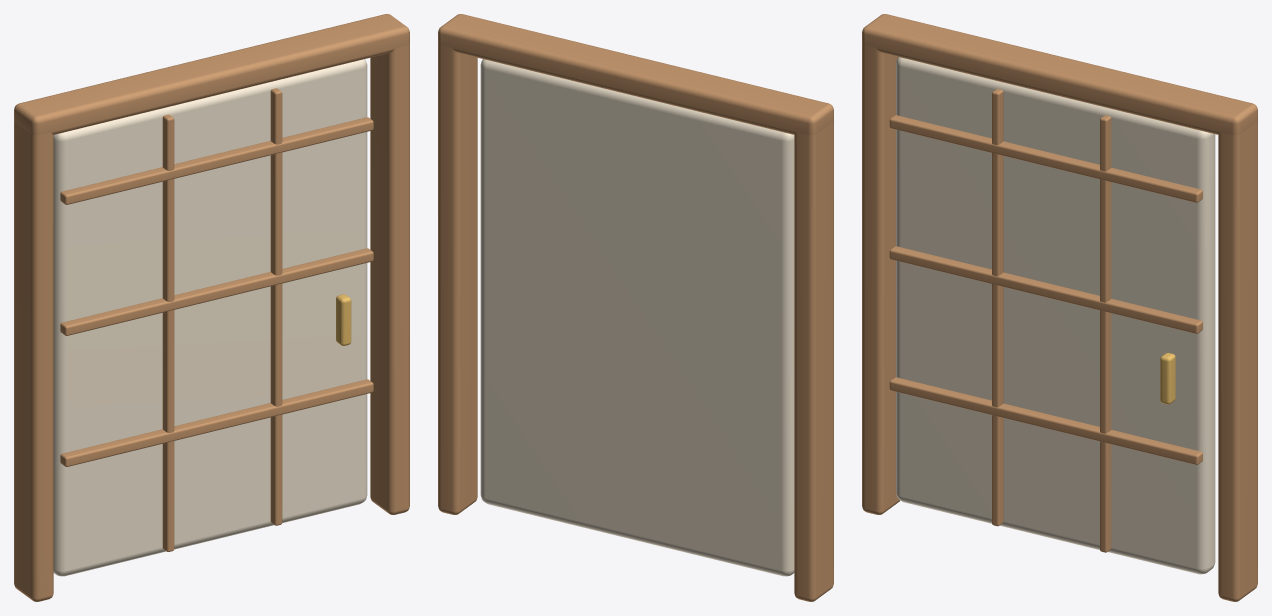
File: japaneseSlidingDoorAni.glb
3 renders of one model, left to right at view 1: azimuth 30°, elevation 25°; view 2: azimuth 150°, elevation 25°; view 3: azimuth 330°, elevation 25°, orthographic.
Parts seen in each view (by area): view 1: Door leaf, Door jamb, Door jamb.001, Door header, Door lattice.004, Door lattice.003, Door lattice.002, Door lattice, Door lattice.001, Door handle; view 2: Door leaf, Door jamb, Door jamb.001, Door header; view 3: Door leaf, Door jamb.001, Door jamb, Door header, Door lattice.004, Door lattice.003, Door lattice.001, Door lattice, Door lattice.002, Door handle.
Boxes of the visible parts, x1,y1,x2,y2 form: Door leaf: (53,59,367,576); Door jamb: (14,121,53,601); Door jamb.001: (370,43,409,514); Door header: (14,14,409,135); Door lattice.004: (270,88,282,525); Door lattice.003: (162,114,174,551); Door lattice.002: (60,117,373,204); Door lattice: (60,379,373,466); Door lattice.001: (60,248,373,335); Door handle: (336,294,351,345); Door leaf: (480,59,794,576); Door jamb: (794,121,833,601); Door jamb.001: (438,43,477,514); Door header: (438,14,833,135); Door leaf: (896,57,1215,574); Door jamb.001: (1218,121,1257,601); Door jamb: (862,43,900,514); Door header: (862,14,1257,135); Door lattice.004: (1100,115,1111,552); Door lattice.003: (992,89,1003,526); Door lattice.001: (889,246,1202,333); Door lattice: (889,377,1202,464); Door lattice.002: (889,115,1202,202); Door handle: (1160,353,1175,404).
Bounding box in the file's own units: 1.75 × 2.15 × 0.215.
